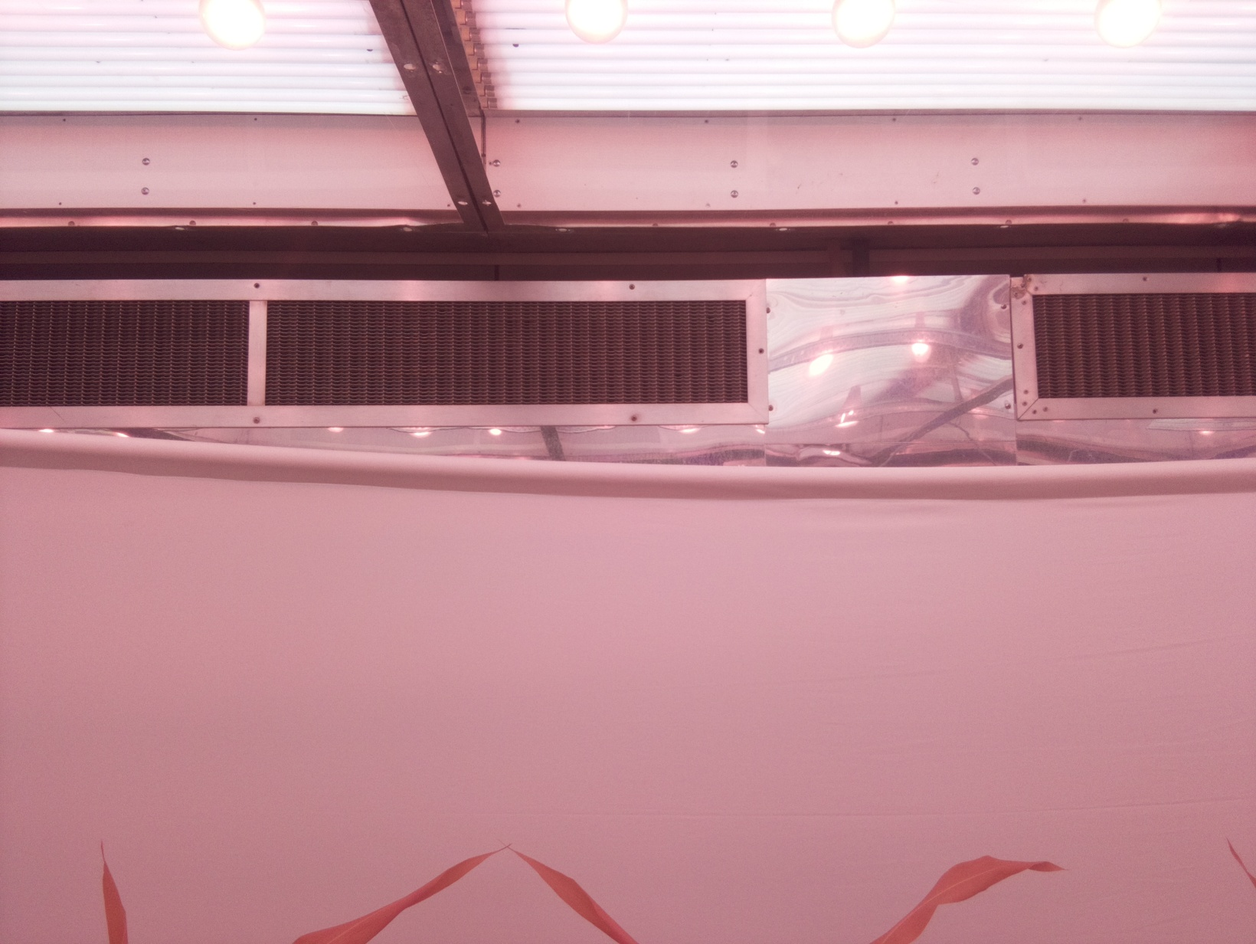maize: (291, 842, 512, 944), (868, 854, 1068, 944), (504, 842, 640, 944), (100, 838, 132, 944), (1225, 834, 1256, 892)
